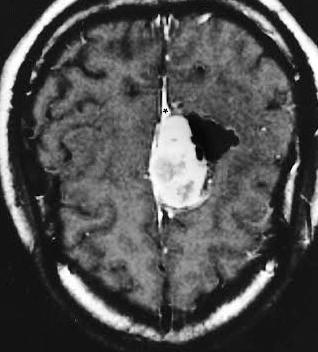Tumour-Meningioma: (142, 86, 224, 221)
